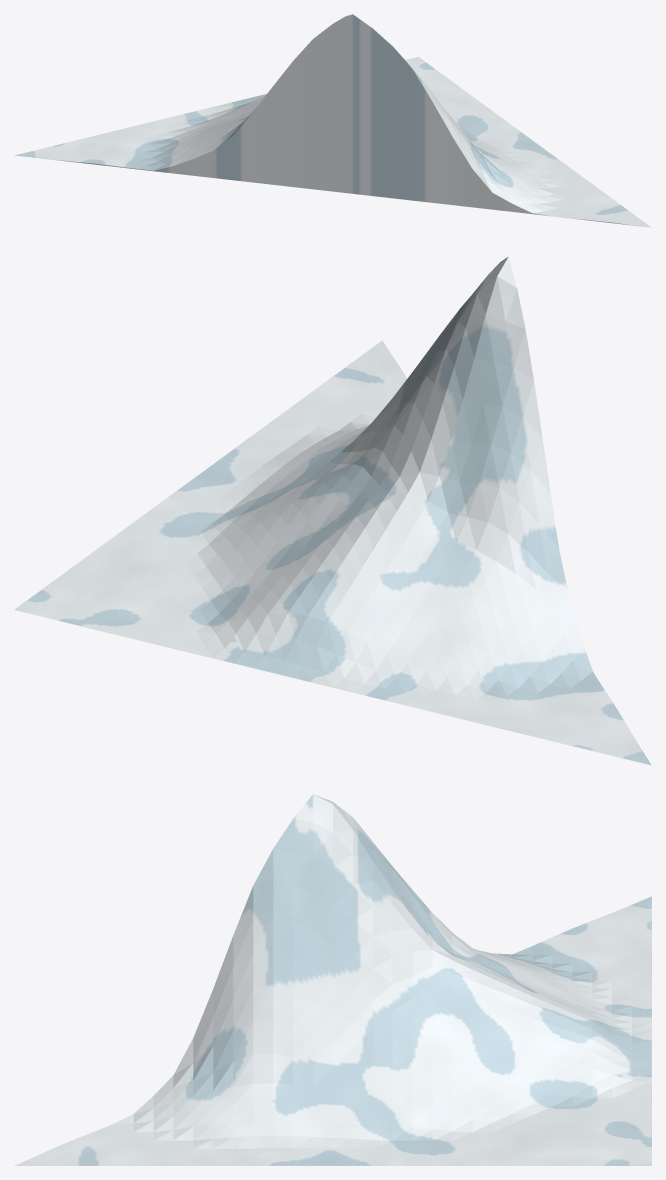
The model's file is Snow_Mountains_07_SE.obj.
3 renders of one model, top to bottom at view 1: azimuth 30°, elevation 25°; view 2: azimuth 150°, elevation 25°; view 3: azimuth 270°, elevation 25°, orthographic. The views are drawn at different scales.
Bounding box in the file's own units: 10 × 4.24 × 10.
Materials: 1 (1 with a texture image).
